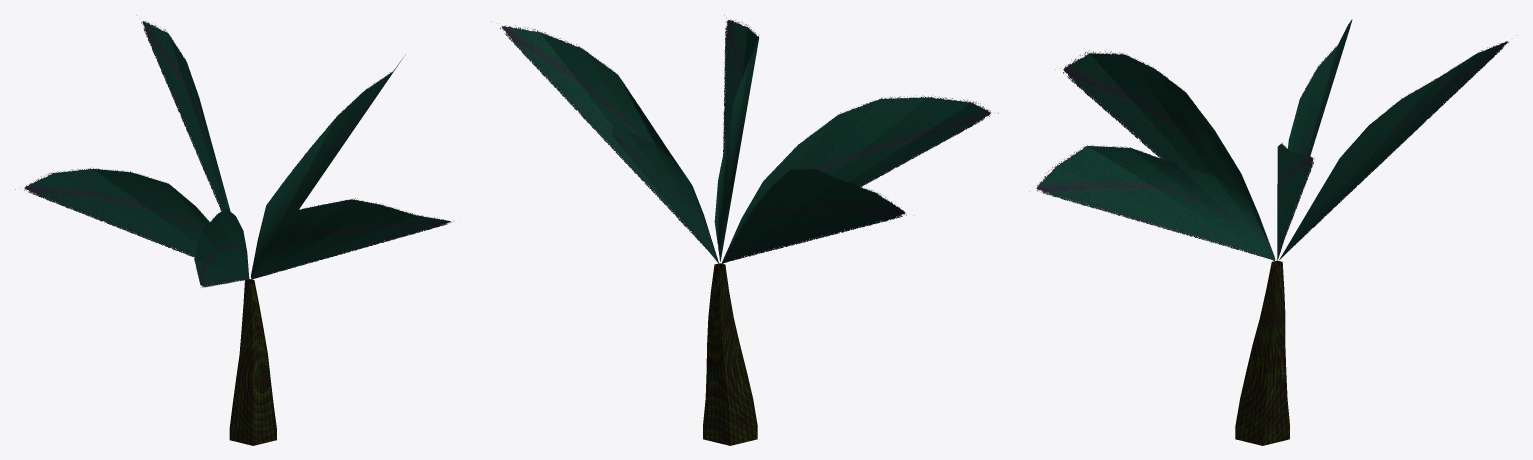
Rendered from mosstree.obj.
3 views of the same model, side by side, from view 1: azimuth 30°, elevation 25°; view 2: azimuth 150°, elevation 25°; view 3: azimuth 270°, elevation 25° (orthographic). The views are drawn at different scales.
Bounding box in the file's own units: 16.19 × 13.78 × 15.55.
